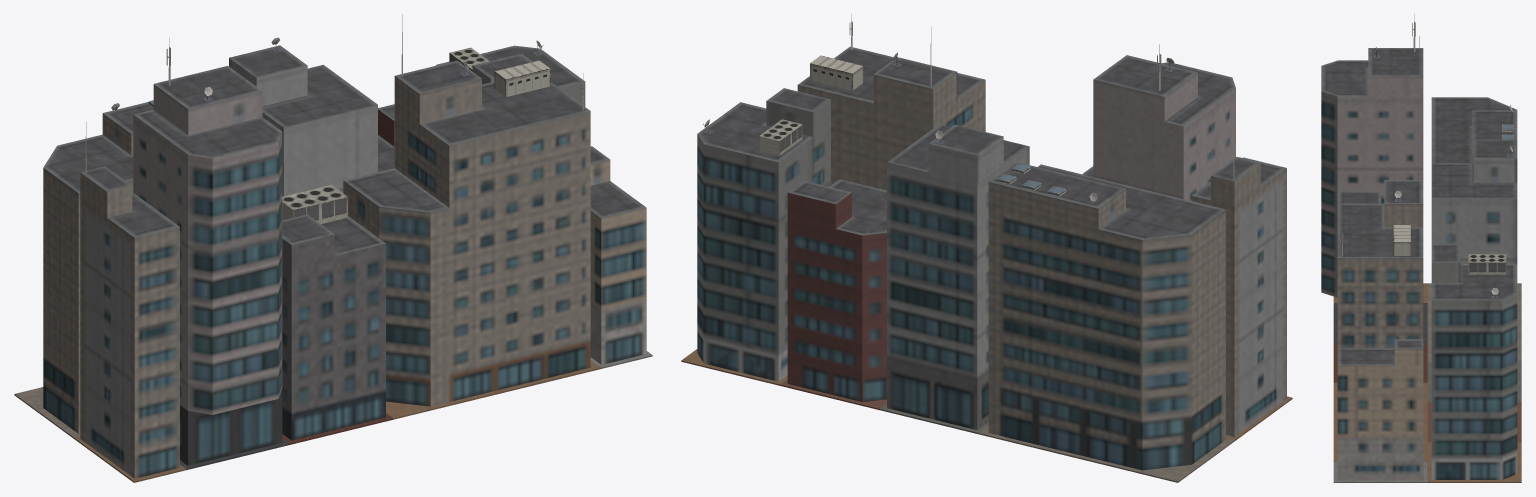
File: jctlowBldLowSetC.fbx
3 renders of one model, left to right at view 1: azimuth 30°, elevation 25°; view 2: azimuth 150°, elevation 25°; view 3: azimuth 270°, elevation 25°, orthographic. The views are drawn at different scales.
Parts seen in each view (by area): view 1: jctlowBldLowSetC; view 2: jctlowBldLowSetC; view 3: jctlowBldLowSetC.
Part boxes in pixels (<box>): jctlowBldLowSetC: <box>14,14,652,482</box>; jctlowBldLowSetC: <box>681,14,1292,482</box>; jctlowBldLowSetC: <box>1321,14,1521,482</box>.
Size of the model in its own units: 6000 by 4277 by 2555.
9 materials, 9 textured.
